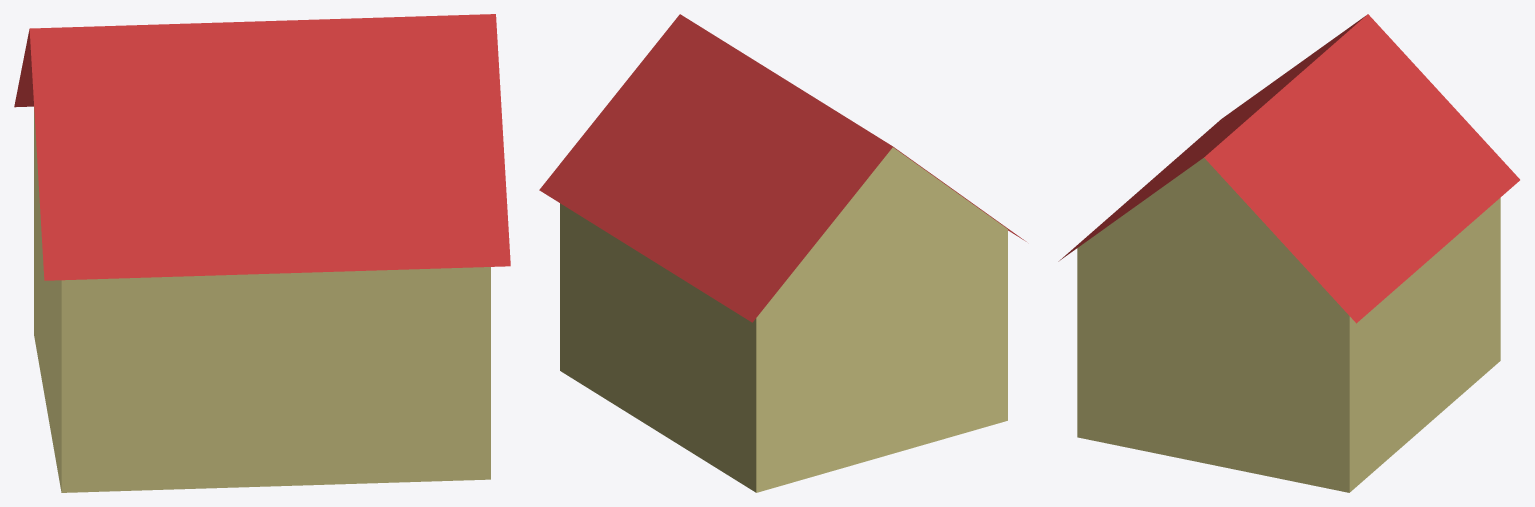
The picture shows the model from 3 angles, left to right: view 1: azimuth 30°, elevation 25°; view 2: azimuth 150°, elevation 25°; view 3: azimuth 270°, elevation 25°; orthographic projection. The views are drawn at different scales.
Size of the model in its own units: 16.19 by 15.49 by 11.54.
